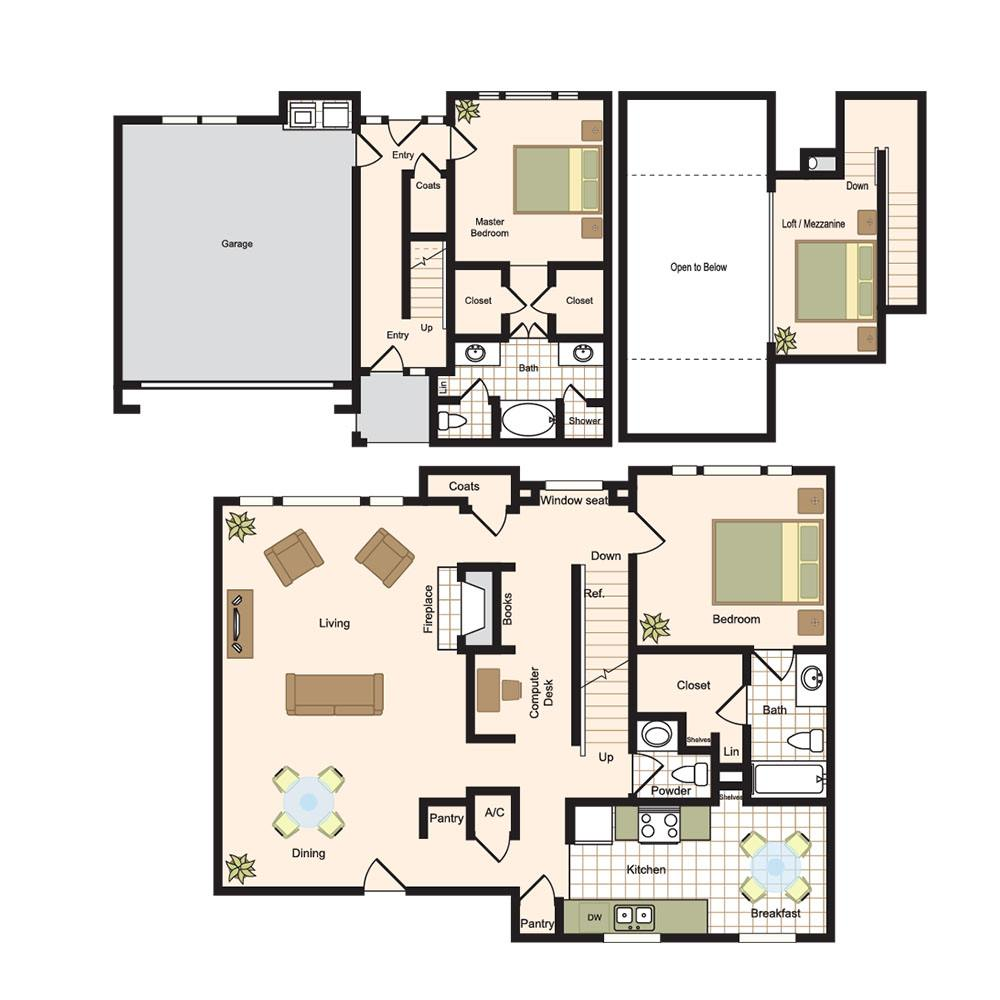door: (641, 506, 678, 563), (360, 855, 402, 882), (455, 125, 485, 161), (514, 870, 563, 891), (712, 687, 742, 721), (633, 752, 664, 784), (472, 512, 514, 534), (366, 125, 381, 179), (388, 124, 421, 145), (530, 282, 548, 318)
room: (212, 497, 579, 898), (448, 88, 609, 340), (564, 797, 835, 945), (627, 464, 833, 654), (444, 336, 617, 445), (629, 648, 749, 801), (745, 648, 835, 804)
window: (488, 79, 579, 101), (163, 112, 238, 127), (284, 498, 360, 509), (606, 931, 658, 945), (372, 494, 402, 512), (739, 930, 793, 940)
